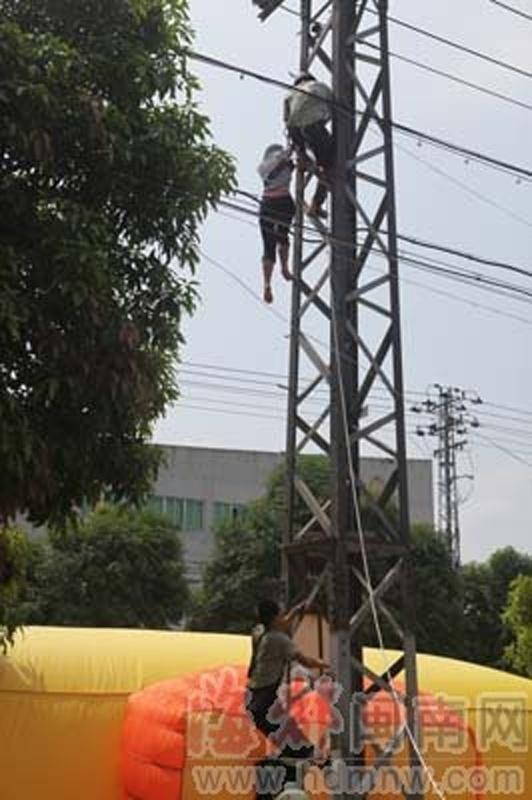power_tower: (239, 7, 430, 785)
